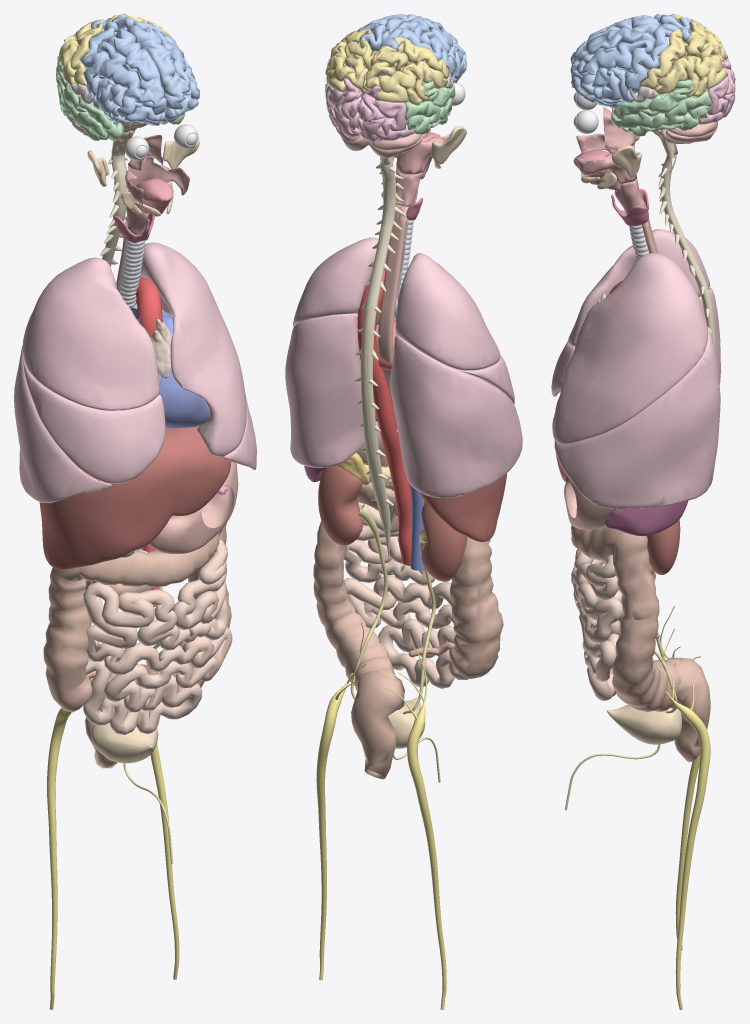
Rendered from organos.glb.
The picture shows the model from 3 angles, left to right: view 1: azimuth 30°, elevation 25°; view 2: azimuth 150°, elevation 25°; view 3: azimuth 270°, elevation 25°; orthographic projection.
Visible parts, largest first — view 1: pulmon_derecho, intestino_delgado, higado, pulmon_izquierdo, intestino_grueso, lobulo_frontal.r, lobulo_frontal.l, estomago, nervio_ciatico.r, faringe, lobulo_temporal.r, vejiga (+10 smaller); view 2: pulmon_derecho, intestino_grueso, pulmon_izquierdo, intestino_delgado, medula_espinal, lobulo_parietal.r, aorta, higado, rinon.l, nervio_ciatico.r, nervio_ciatico.l, rinon.r (+14 smaller); view 3: pulmon_izquierdo, intestino_grueso, lobulo_frontal.l, intestino_delgado, pulmon_derecho, lobulo_parietal.l, lobulo_temporal.l, nervio_ciatico.l, faringe, vejiga, medula_espinal, bazo (+12 smaller).
Part boxes in pixels (bbox=[...]): pulmon_derecho: bbox=[14, 257, 165, 503]; intestino_delgado: bbox=[83, 539, 232, 734]; higado: bbox=[39, 426, 231, 569]; pulmon_izquierdo: bbox=[140, 242, 256, 470]; intestino_grueso: bbox=[43, 504, 231, 768]; lobulo_frontal.r: bbox=[81, 19, 166, 125]; lobulo_frontal.l: bbox=[112, 14, 199, 122]; estomago: bbox=[149, 461, 238, 553]; nervio_ciatico.r: bbox=[47, 678, 92, 1009]; faringe: bbox=[125, 134, 190, 234]; lobulo_temporal.r: bbox=[56, 61, 123, 140]; vejiga: bbox=[91, 722, 158, 763]; pulmon_derecho: bbox=[389, 253, 522, 497]; intestino_grueso: bbox=[313, 482, 503, 779]; pulmon_izquierdo: bbox=[285, 237, 387, 467]; intestino_delgado: bbox=[343, 502, 468, 688]; medula_espinal: bbox=[355, 159, 406, 561]; lobulo_parietal.r: bbox=[362, 37, 449, 104]; aorta: bbox=[357, 270, 411, 566]; higado: bbox=[374, 408, 506, 541]; rinon.l: bbox=[318, 466, 362, 545]; nervio_ciatico.r: bbox=[385, 634, 446, 1009]; nervio_ciatico.l: bbox=[316, 623, 366, 980]; rinon.r: bbox=[421, 502, 466, 580]; pulmon_izquierdo: bbox=[552, 253, 720, 508]; intestino_grueso: bbox=[571, 525, 710, 762]; lobulo_frontal.l: bbox=[570, 23, 691, 108]; intestino_delgado: bbox=[571, 549, 623, 700]; pulmon_derecho: bbox=[551, 229, 720, 396]; lobulo_parietal.l: bbox=[639, 29, 727, 97]; lobulo_temporal.l: bbox=[611, 79, 711, 136]; nervio_ciatico.l: bbox=[660, 628, 710, 1009]; faringe: bbox=[576, 107, 645, 215]; vejiga: bbox=[607, 704, 681, 744]; medula_espinal: bbox=[658, 151, 715, 348]; bazo: bbox=[605, 500, 688, 536].
Bounding box in the file's own units: 0.2692 × 1.2 × 0.208.
